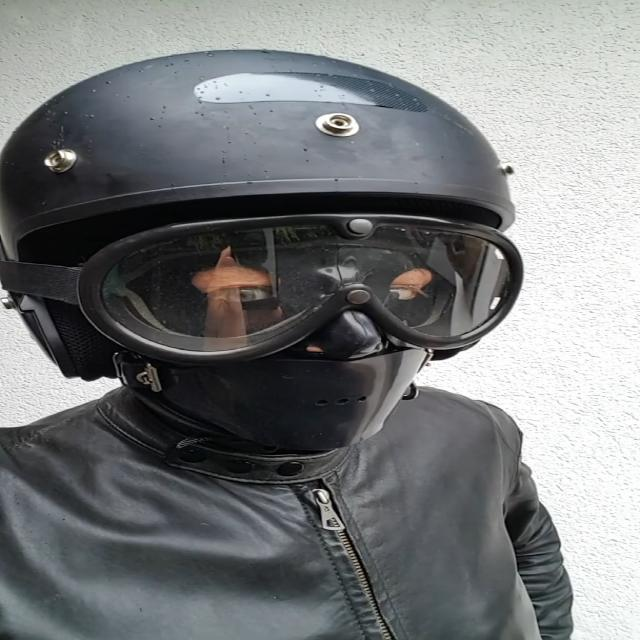Helmet_Wearer: (11, 50, 546, 471)
Jacket_Wearer: (0, 331, 616, 637)
Person: (4, 50, 602, 640)
